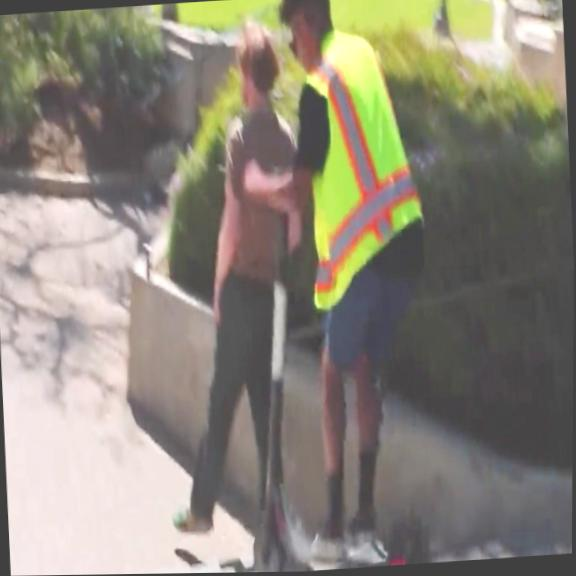safety_vest: (298, 20, 432, 313)
